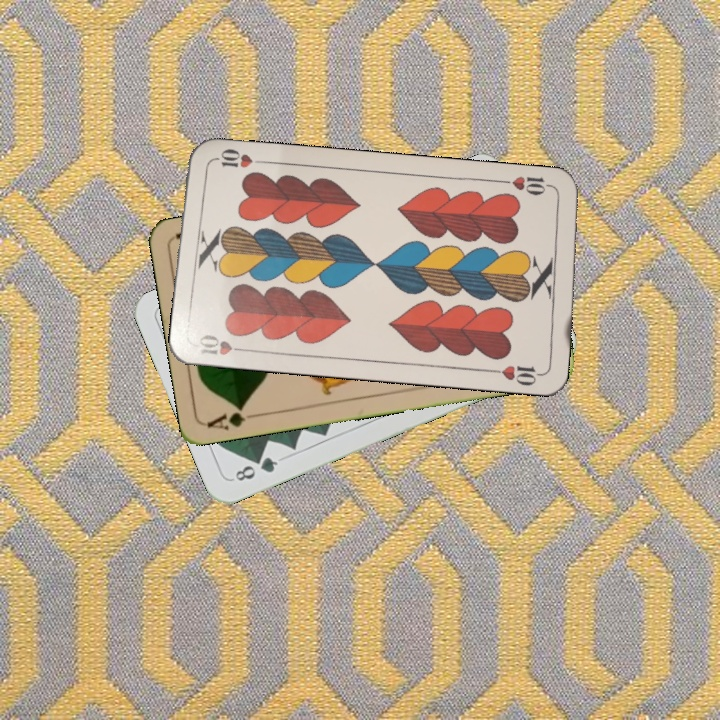G8: (231, 452, 281, 484)
GA: (204, 402, 263, 433)
H10: (195, 330, 252, 358), (499, 172, 558, 198)
